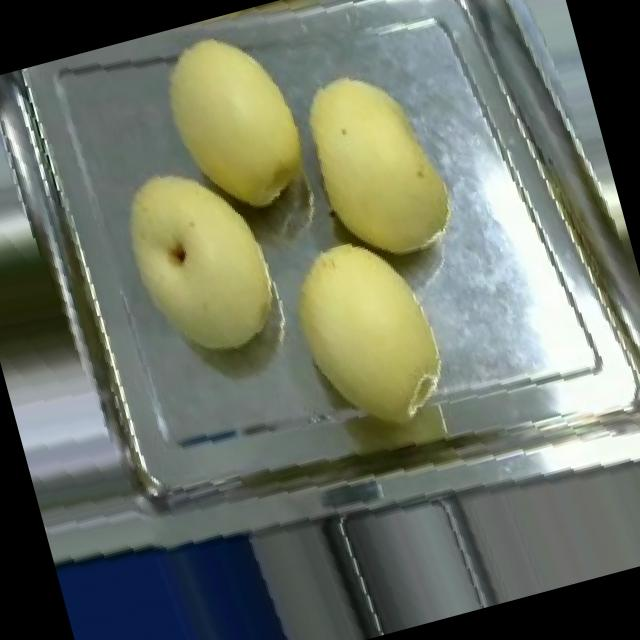Fruit: (272, 39, 477, 289), (256, 209, 469, 449), (97, 141, 304, 386), (142, 5, 331, 236)
